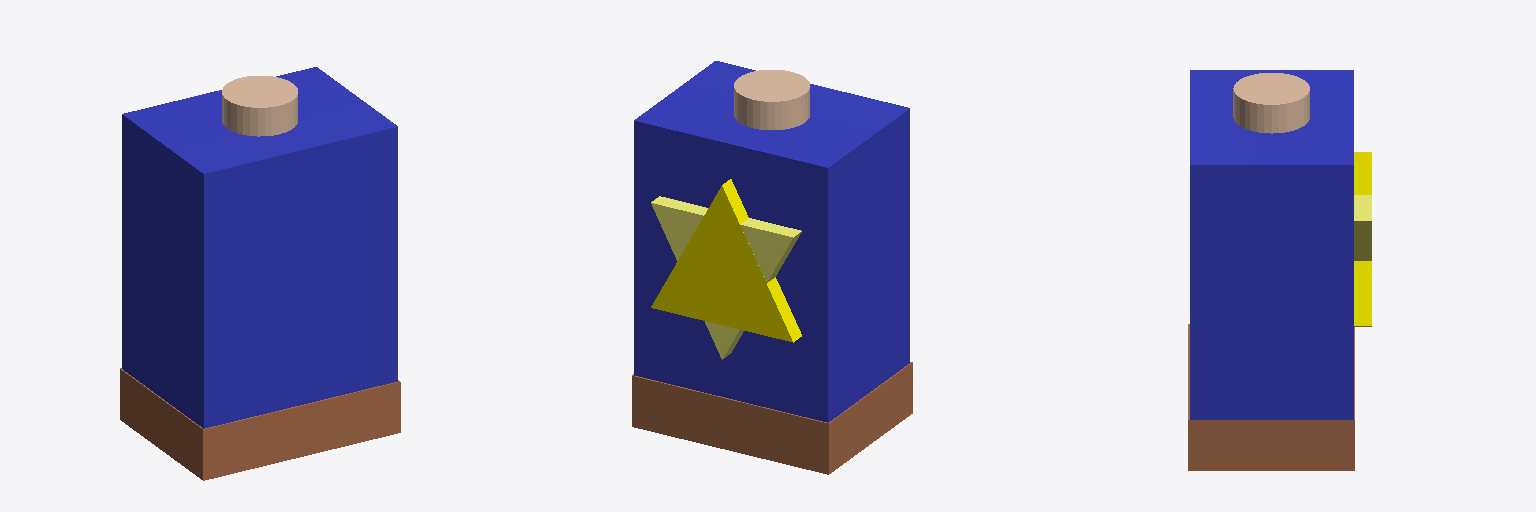
The picture shows the model from 3 angles: view 1: azimuth 30°, elevation 25°; view 2: azimuth 150°, elevation 25°; view 3: azimuth 270°, elevation 25°; orthographic projection.
Parts seen in each view (by area): view 1: 立方體, 立方體.006, 圓柱體; view 2: 立方體, 立方體.006, 立方體.001, 立方體.014_立方體.016, 圓柱體; view 3: 立方體, 立方體.006, 圓柱體, 立方體.001, 立方體.014_立方體.016.
Part boxes in pixels (bbox=[...]): 立方體: bbox=[122, 67, 397, 428]; 立方體.006: bbox=[120, 368, 400, 480]; 圓柱體: bbox=[222, 76, 297, 136]; 立方體: bbox=[634, 61, 909, 422]; 立方體.006: bbox=[632, 362, 912, 474]; 立方體.001: bbox=[651, 179, 801, 342]; 立方體.014_立方體.016: bbox=[651, 196, 801, 359]; 圓柱體: bbox=[734, 70, 809, 129]; 立方體: bbox=[1190, 70, 1353, 419]; 立方體.006: bbox=[1188, 324, 1354, 470]; 圓柱體: bbox=[1233, 73, 1309, 133]; 立方體.001: bbox=[1354, 152, 1371, 325]; 立方體.014_立方體.016: bbox=[1354, 195, 1371, 326].
Size of the model in its own units: 1.77 by 2.87 by 1.43.
Materials: 5 (1 with a texture image).